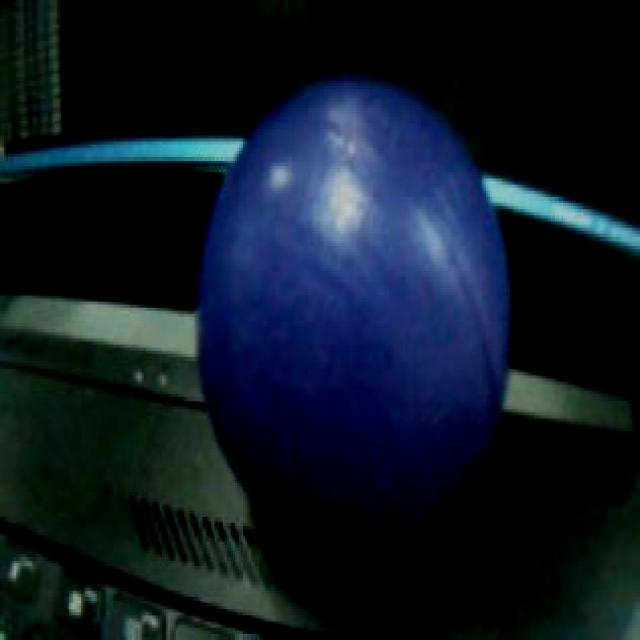BallPurple: (196, 70, 512, 548)
